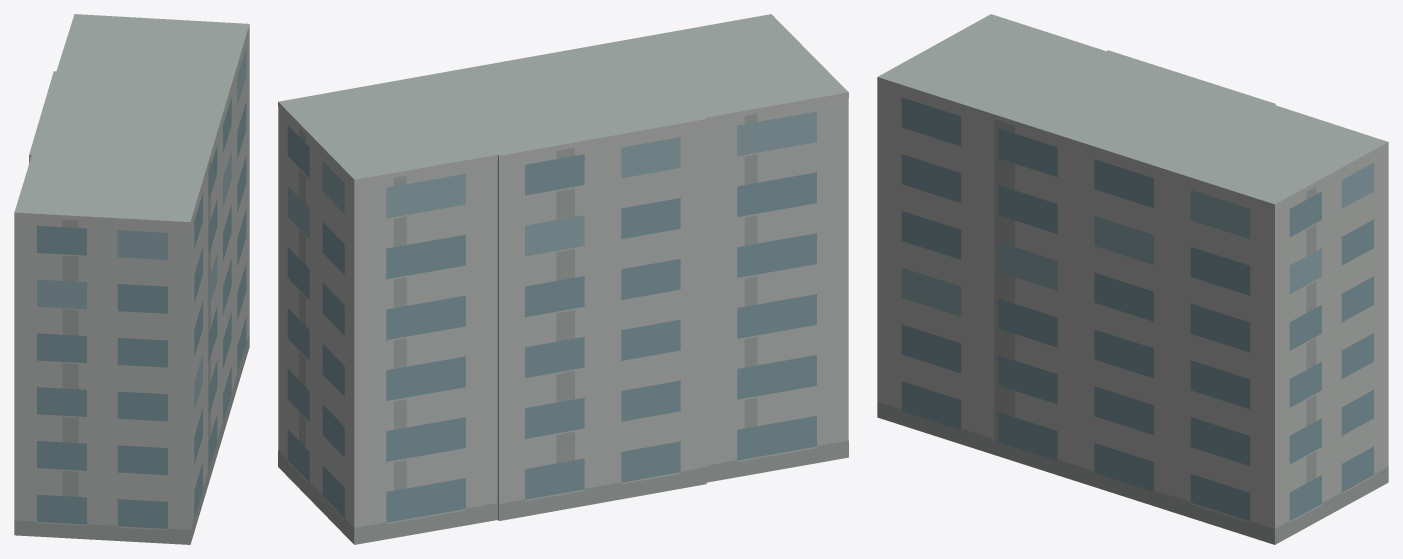
Rendered from survey-upis-32578352.glb.
3 views of the same model, side by side, from view 1: azimuth 30°, elevation 25°; view 2: azimuth 150°, elevation 25°; view 3: azimuth 270°, elevation 25° (orthographic). The views are drawn at different scales.
Visible parts, largest first — view 1: survey-upis-32578352.tmp; view 2: survey-upis-32578352.tmp; view 3: survey-upis-32578352.tmp.
Part boxes in pixels (<box>): survey-upis-32578352.tmp: <box>14,14,249,544</box>; survey-upis-32578352.tmp: <box>278,14,848,544</box>; survey-upis-32578352.tmp: <box>877,14,1388,544</box>.
Bounding box in the file's own units: 20.75 × 17.3 × 23.54.
